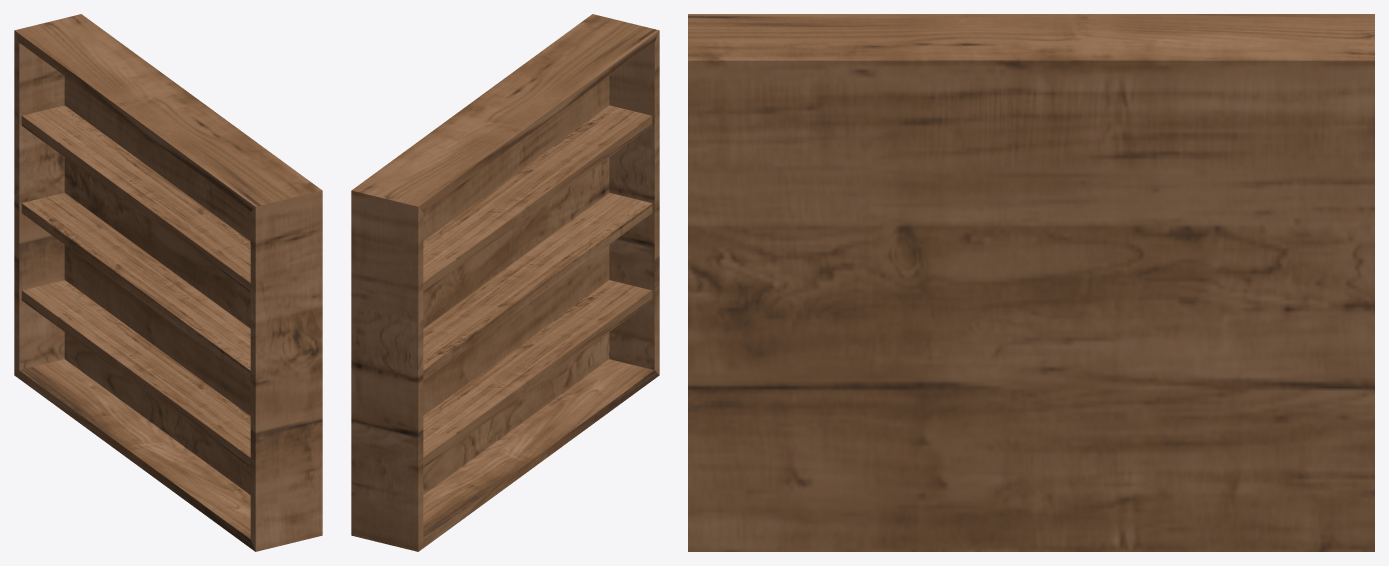
File: Bookcase2.FBX
3 views of the same model, side by side, from view 1: azimuth 30°, elevation 25°; view 2: azimuth 150°, elevation 25°; view 3: azimuth 270°, elevation 25° (orthographic). The views are drawn at different scales.
Visible parts, largest first — view 1: Bookcase001; view 2: Bookcase001; view 3: Bookcase001.
Part boxes in pixels (x1,y1,x2,y2): Bookcase001: (14, 14, 322, 551); Bookcase001: (351, 14, 659, 551); Bookcase001: (688, 14, 1374, 551).
Size of the model in its own units: 8 by 39.38 by 49.87.
